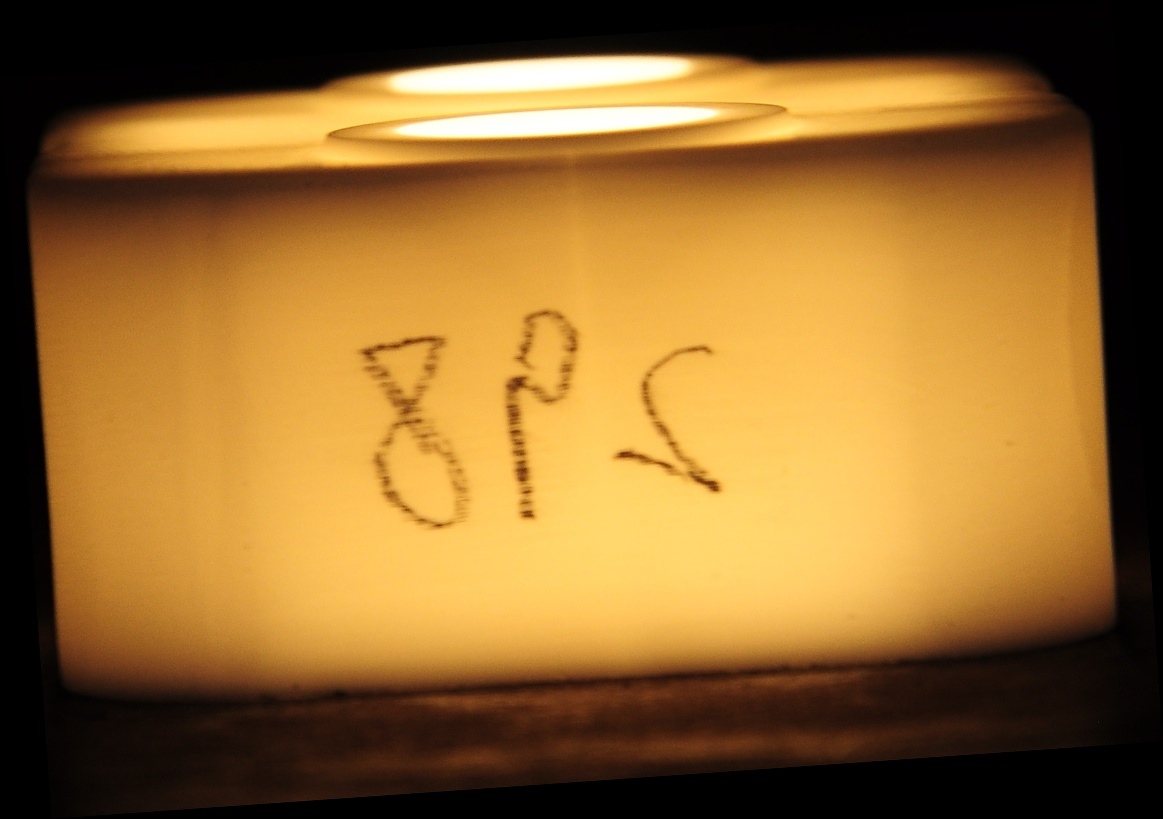flaw: (1049, 156, 1106, 545)
